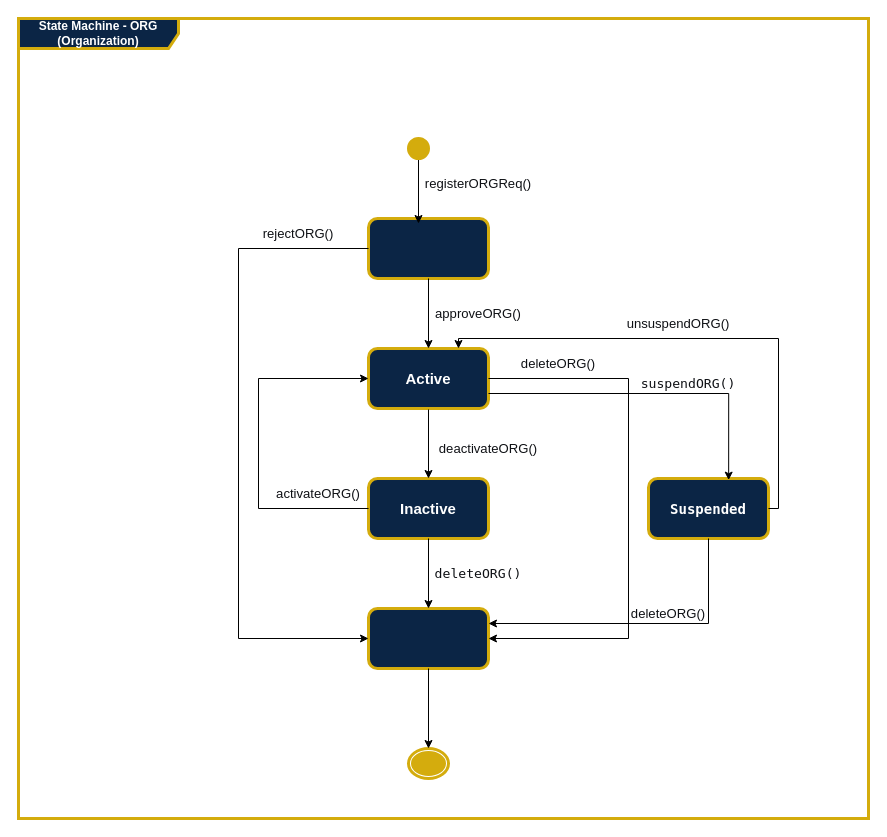
This 887x837 diagram has some shape labels left out. The shapes that lost their labels are listed below. From the top down, each one's box as (x1, y1, x2, y2) in pixels, then its label:
(366, 216, 490, 280): Pending
(366, 606, 490, 670): Deleted
